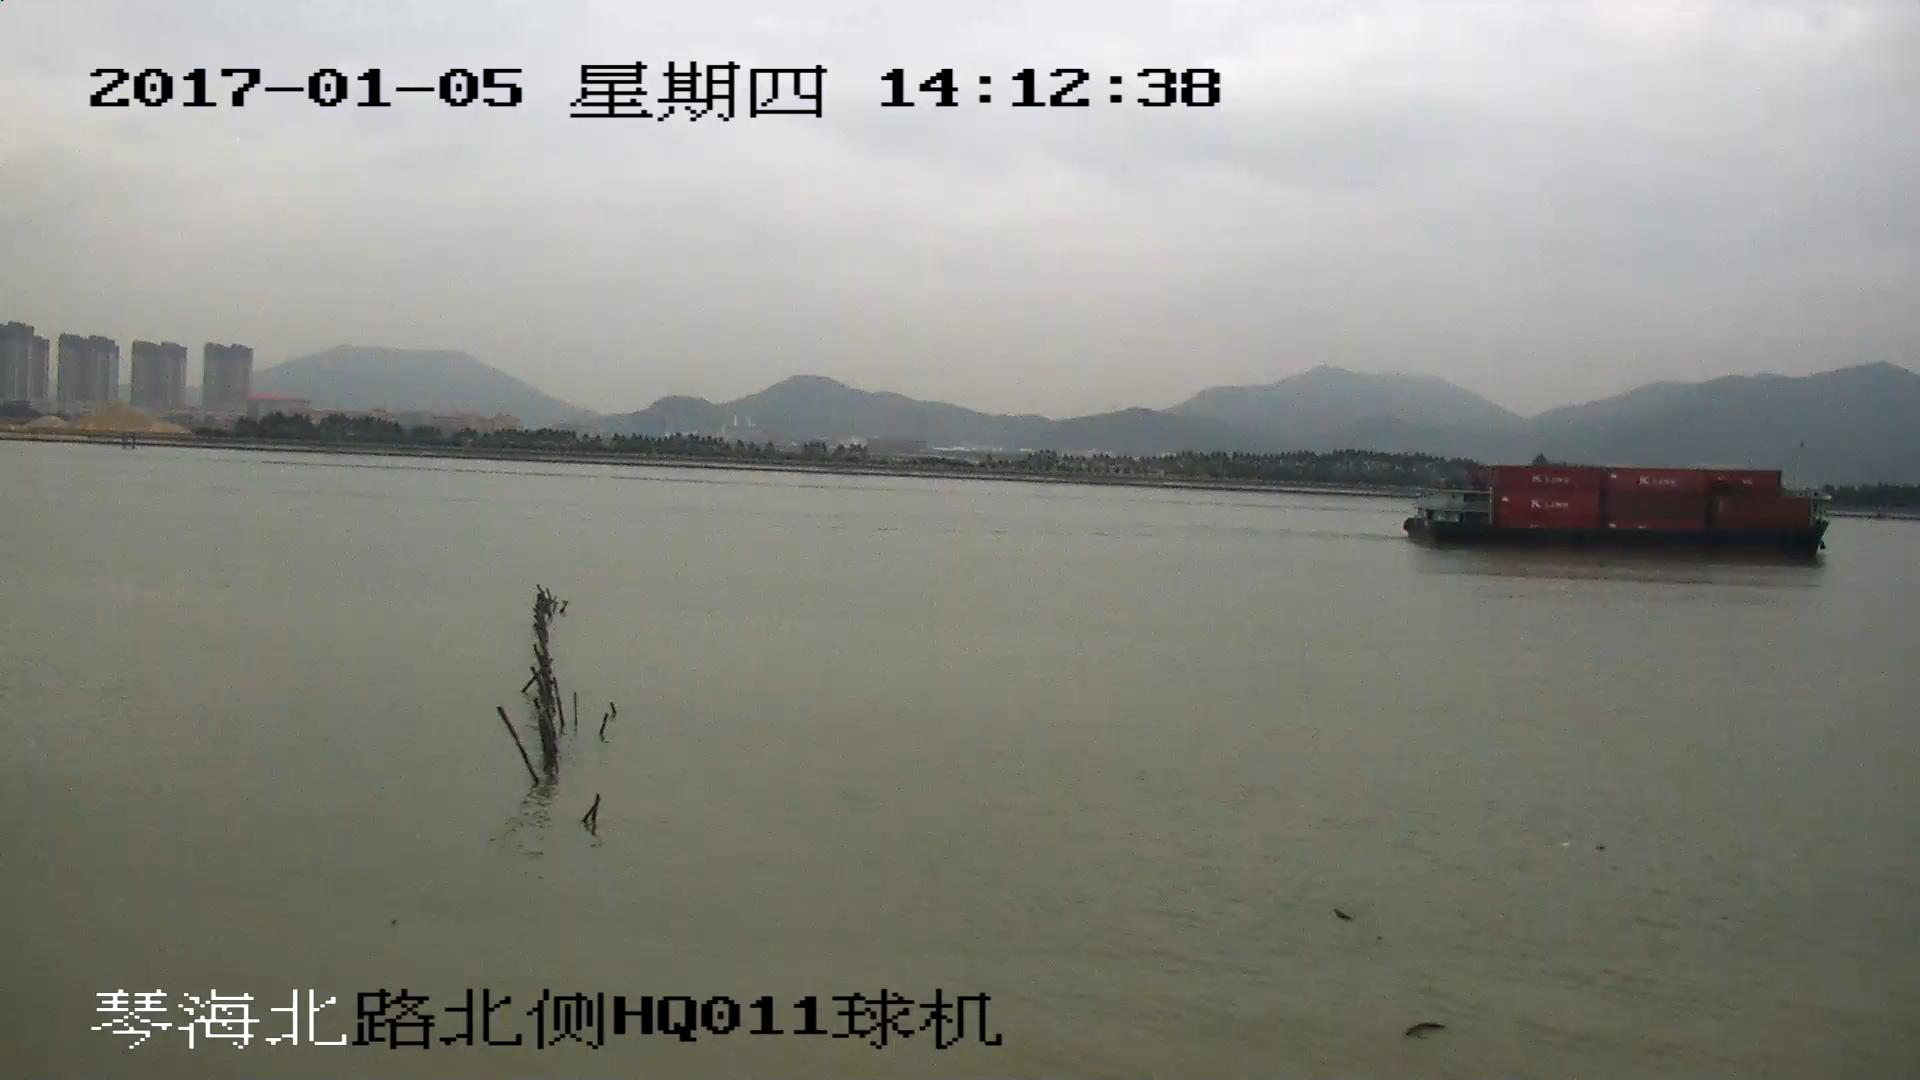container ship: (1412, 461, 1827, 560)
